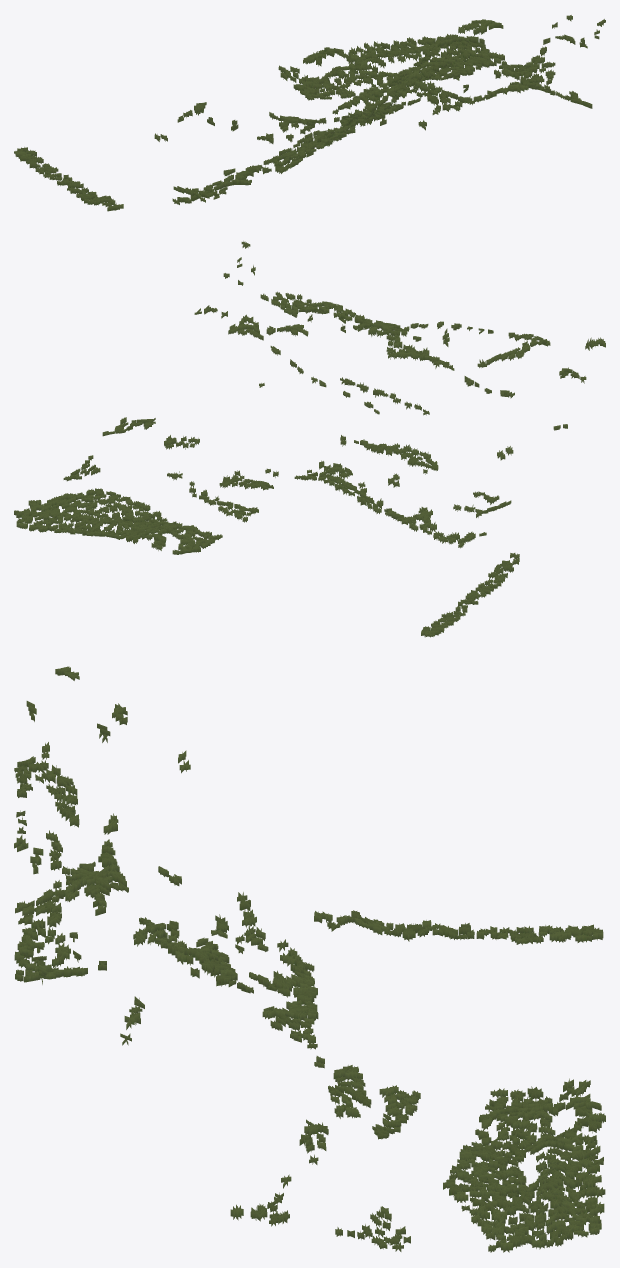
Rendered from TRB8-GRASS-CHUNK-2-1.glb.
The picture shows the model from 3 angles, top to bottom: view 1: azimuth 30°, elevation 25°; view 2: azimuth 150°, elevation 25°; view 3: azimuth 270°, elevation 25°; orthographic projection. The views are drawn at different scales.
Visible parts, largest first — view 1: TRB8-GRASS-CHUNK-2-1; view 2: TRB8-GRASS-CHUNK-2-1; view 3: TRB8-GRASS-CHUNK-2-1.
Part boxes in pixels (left/top/right/bottom): TRB8-GRASS-CHUNK-2-1: left=14, top=15, right=605, bottom=211; TRB8-GRASS-CHUNK-2-1: left=14, top=241, right=605, bottom=637; TRB8-GRASS-CHUNK-2-1: left=14, top=666, right=605, bottom=1252.
Bounding box in the file's own units: 40.55 × 15.44 × 30.59.
1 material, 1 textured.
